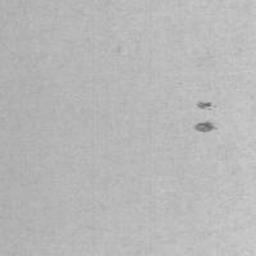Inclusion: (193, 120, 219, 133), (195, 100, 219, 113)
